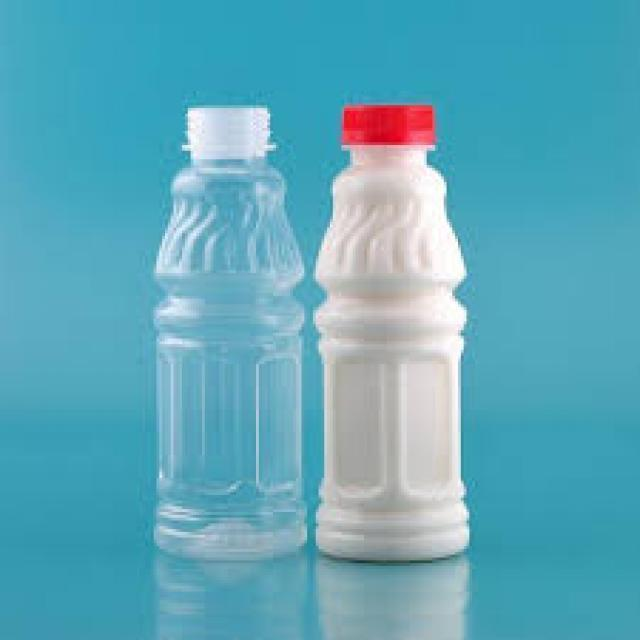Plastic: (310, 104, 470, 566), (154, 103, 310, 560)
